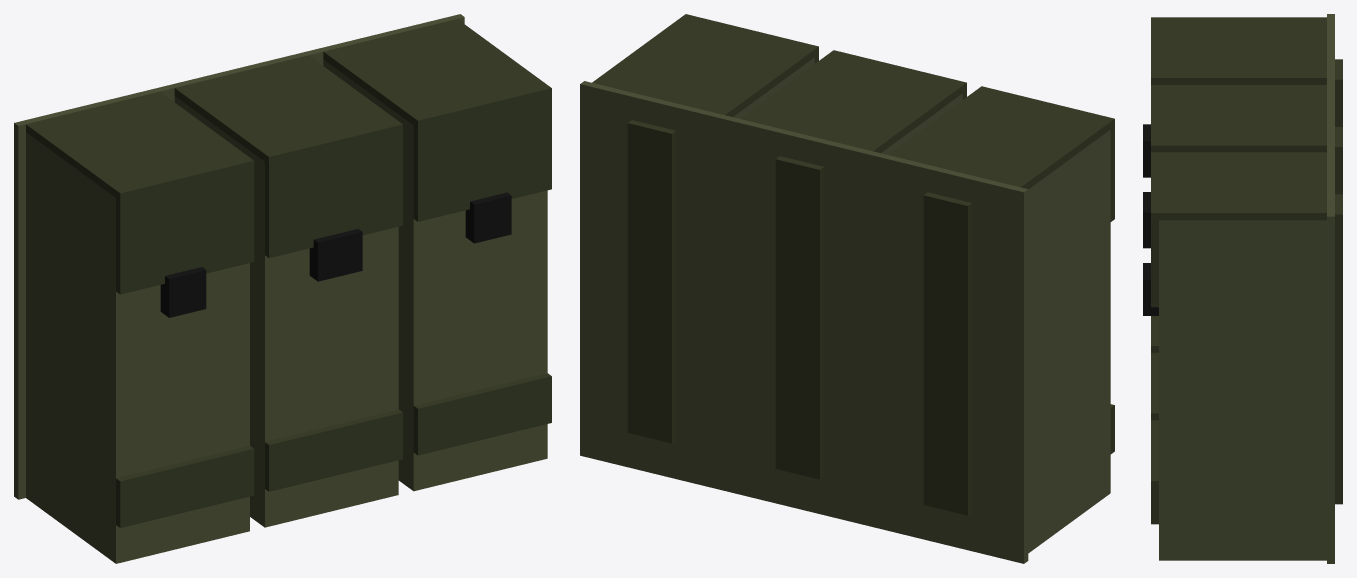
Rendered from triple_stacker_pouch.glb.
3 views of the same model, side by side, from view 1: azimuth 30°, elevation 25°; view 2: azimuth 150°, elevation 25°; view 3: azimuth 270°, elevation 25° (orthographic). The views are drawn at different scales.
Parts seen in each view (by area): view 1: triple_stacker_pouch:compound; view 2: triple_stacker_pouch:compound; view 3: triple_stacker_pouch:compound.
Part boxes in pixels (bbox=[...]): triple_stacker_pouch:compound: bbox=[14, 14, 551, 563]; triple_stacker_pouch:compound: bbox=[580, 14, 1114, 563]; triple_stacker_pouch:compound: bbox=[1143, 14, 1342, 563].
Bounding box in the file's own units: 0.24 × 0.192 × 0.1.
